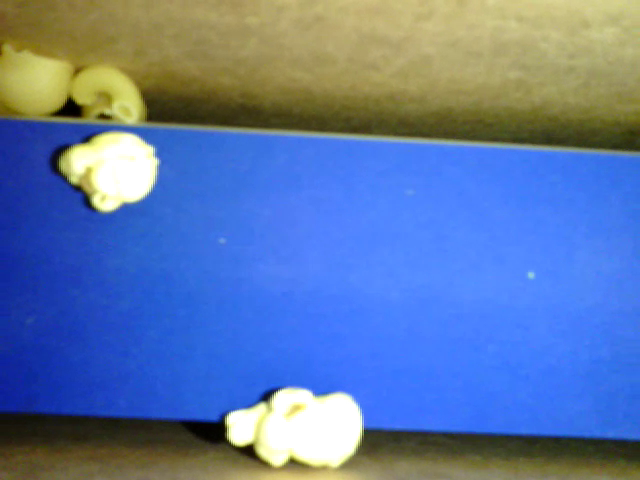elbow: (70, 64, 141, 121)
shell: (1, 43, 75, 114), (82, 92, 147, 122)
